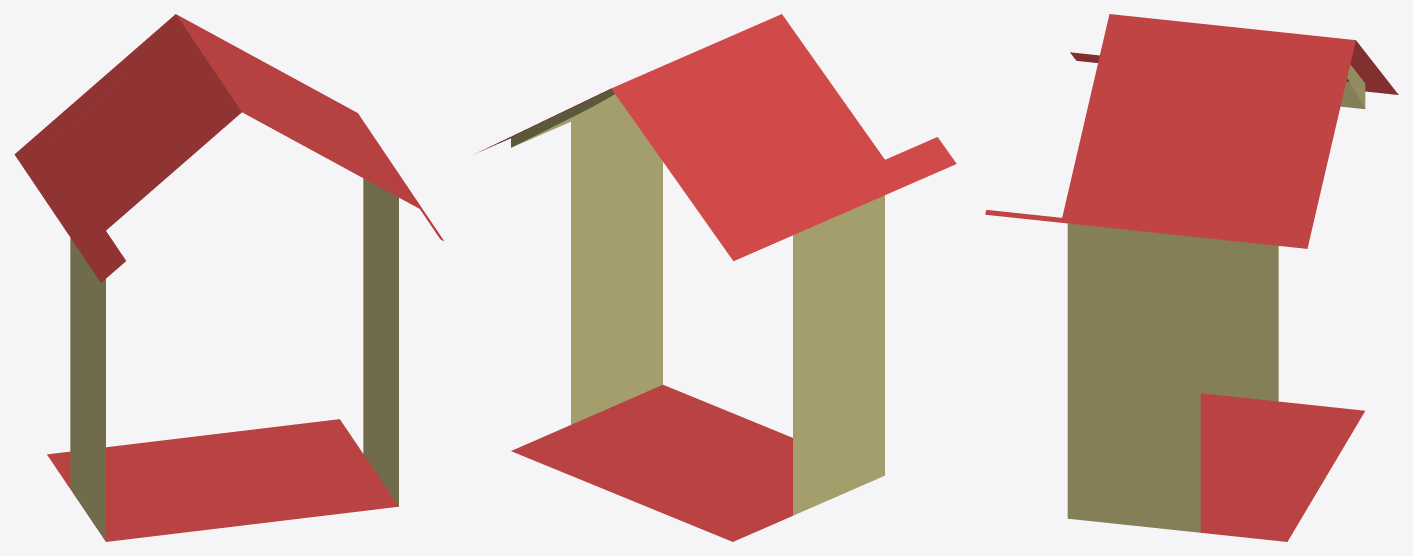
3 views of the same model, side by side, from view 1: azimuth 30°, elevation 25°; view 2: azimuth 150°, elevation 25°; view 3: azimuth 270°, elevation 25° (orthographic). The views are drawn at different scales.
Bounding box in the file's own units: 12.1 × 11.25 × 13.03.
